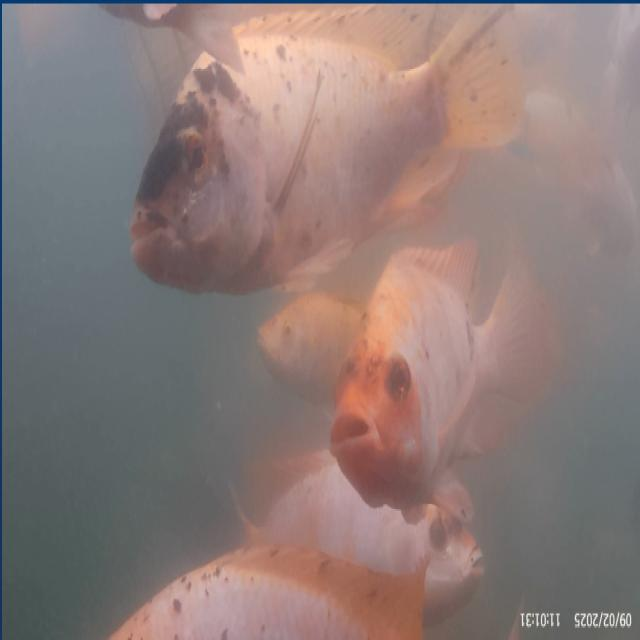ikan: (98, 38, 514, 275), (322, 287, 552, 522), (243, 291, 333, 403)
